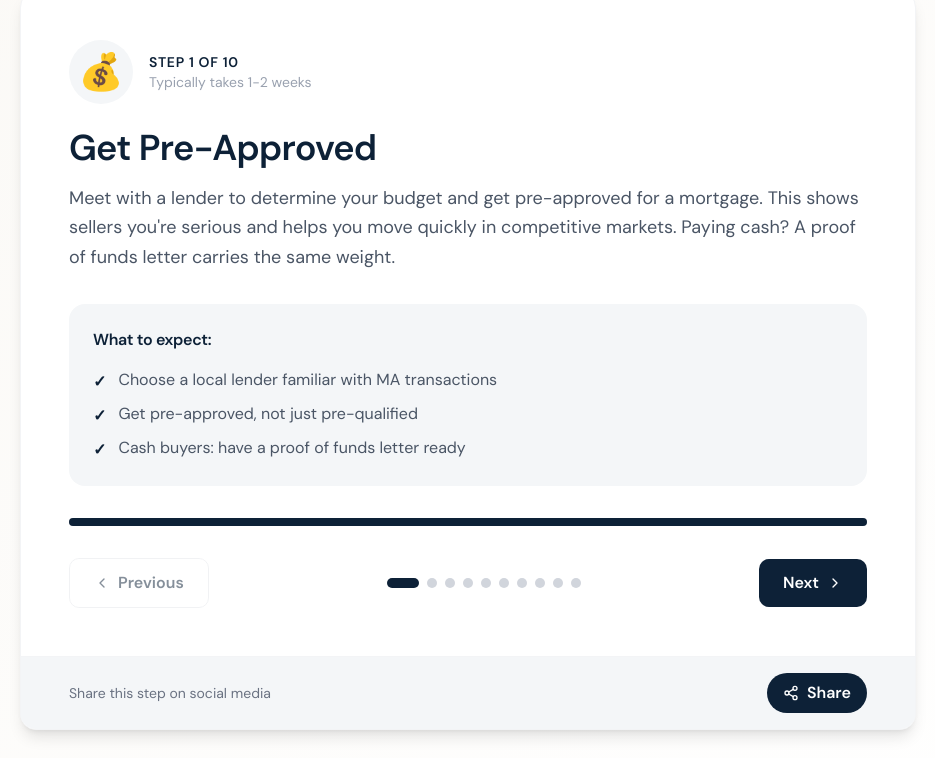
Test case: BuyingProcessGuide › navigates to previous step when Previous button is clicked
(page scrolled)
# First go to step 2
Click the button "Next" at x=813, y=583, box 759,559 -> 867,607
(page scrolled)
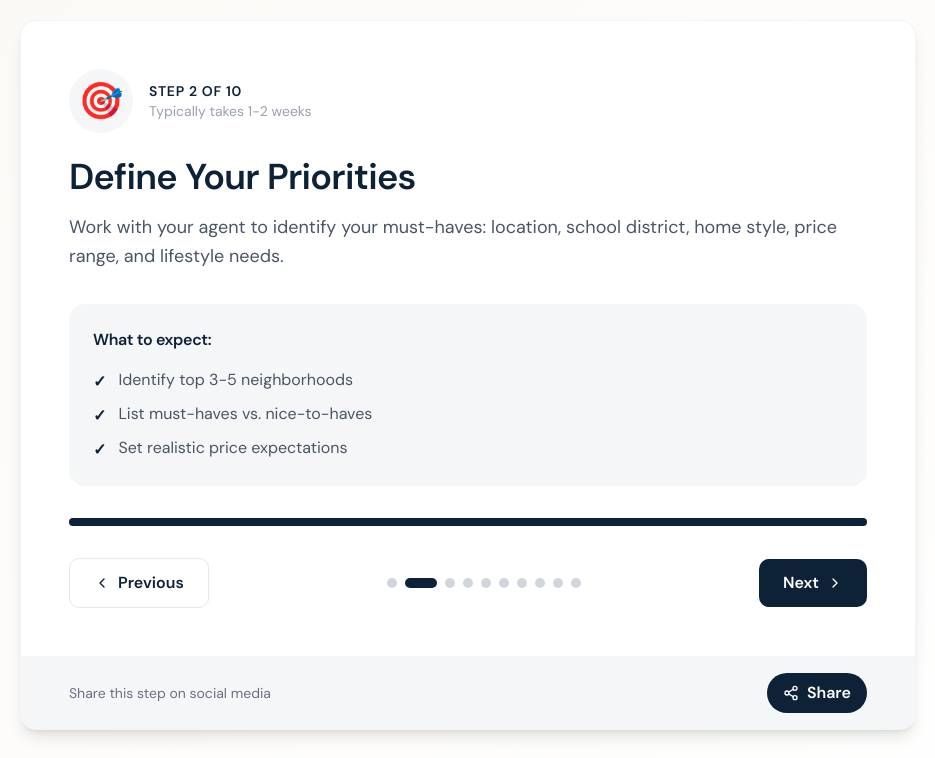
Result: the heading "Define Your Priorities" is shown at 69,153 -> 416,200
# Then go back to step 1
Click the button "Previous" at x=139, y=582, box 69,558 -> 209,608
(page scrolled)
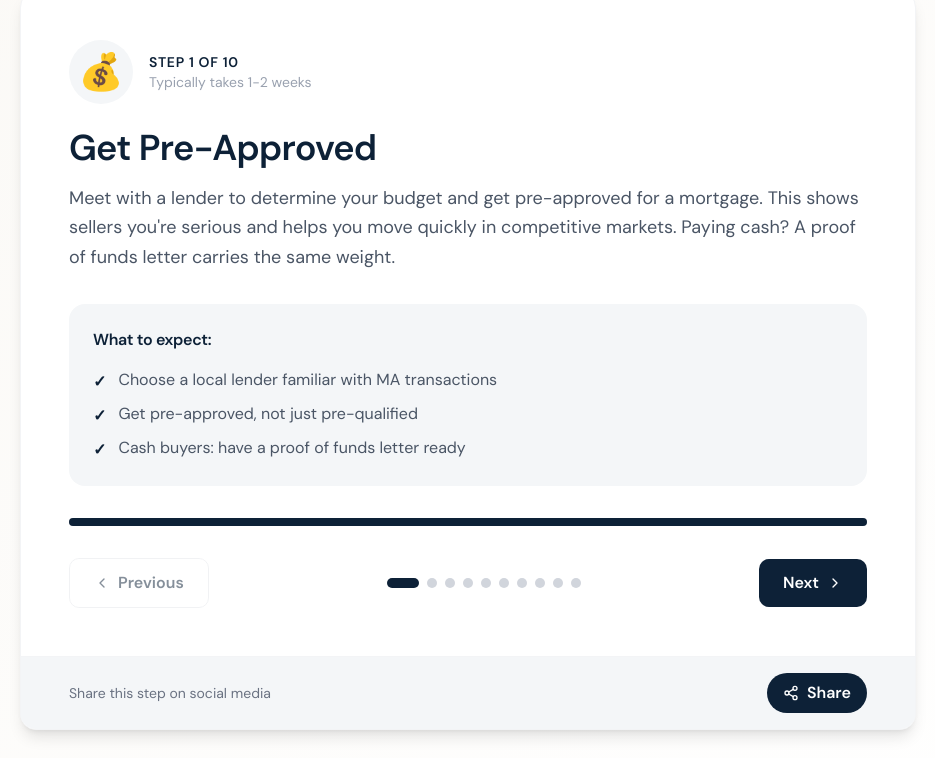
Result: the heading "Get Pre-Approved" is shown at 69,124 -> 376,171
